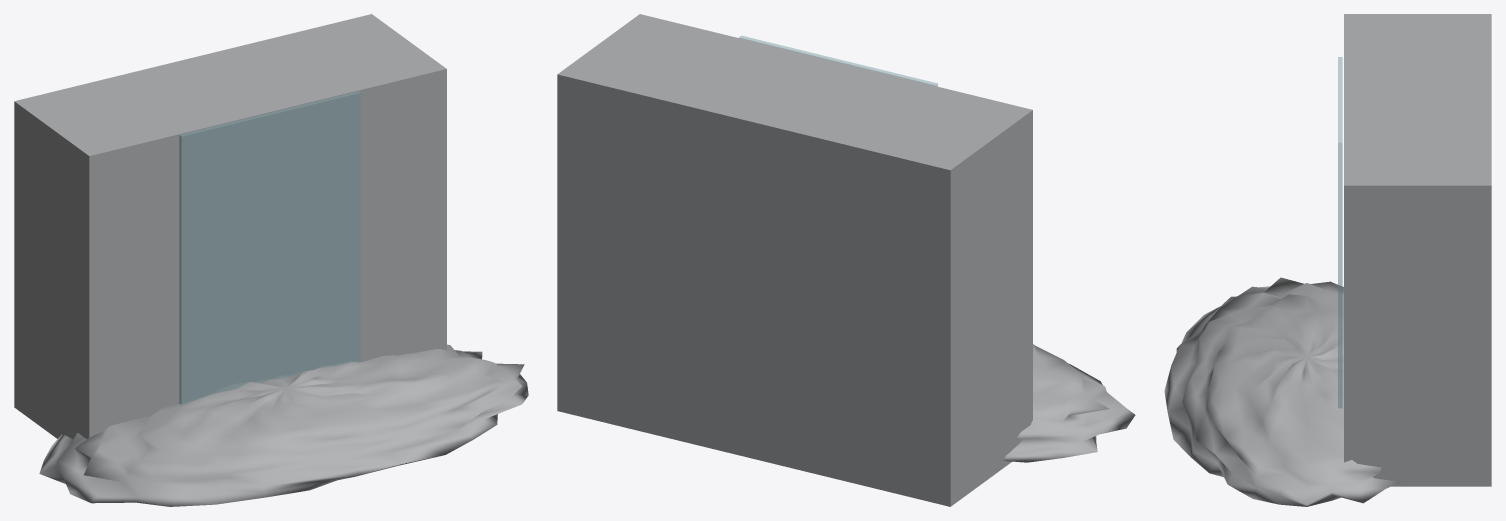
File: alpine-and-arctic-biomes-waterfall-rock-step-596e5539__21059.glb
3 renders of one model, left to right at view 1: azimuth 30°, elevation 25°; view 2: azimuth 150°, elevation 25°; view 3: azimuth 270°, elevation 25°, orthographic. The views are drawn at different scales.
Parts seen in each view (by area): view 1: waterfall-rock-step; view 2: waterfall-rock-step; view 3: waterfall-rock-step.
Boxes of the visible parts, left/top/right/bottom form: waterfall-rock-step: left=14, top=14, right=528, bottom=506; waterfall-rock-step: left=557, top=14, right=1135, bottom=506; waterfall-rock-step: left=1164, top=14, right=1491, bottom=506.
Bounding box in the file's own units: 2.9 × 1.8 × 1.77.
